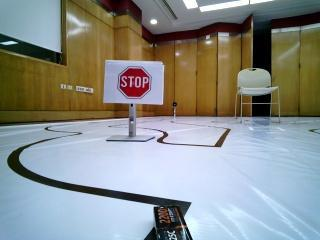stop: (106, 65, 161, 102)
